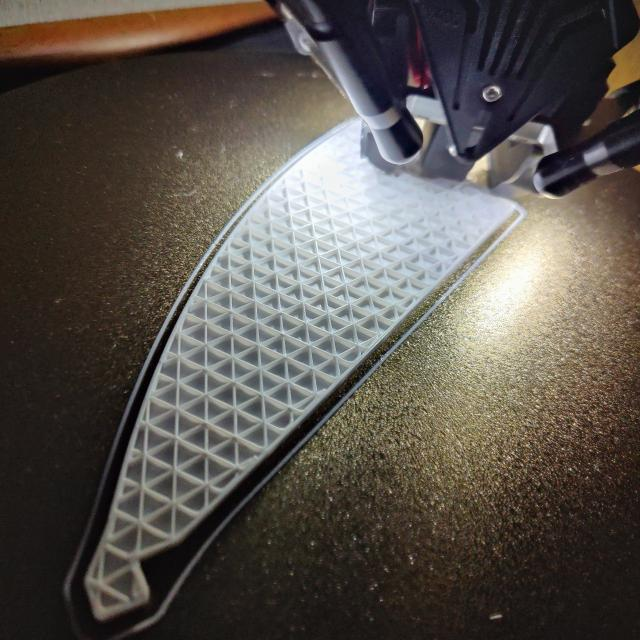Without deffect: (53, 57, 561, 636)
